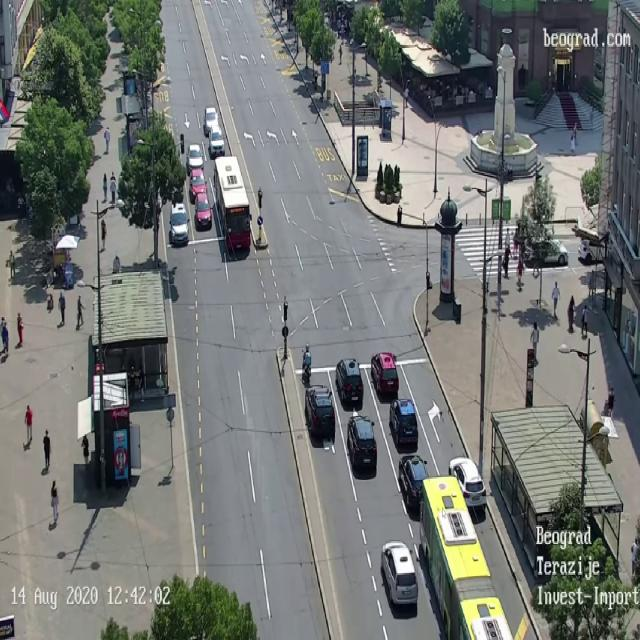bus: (418, 475, 515, 639), (213, 155, 250, 252)
car: (299, 386, 341, 450), (380, 540, 418, 608), (336, 352, 368, 418), (516, 234, 562, 274), (348, 414, 378, 474), (398, 453, 429, 511), (391, 398, 424, 452), (454, 458, 486, 507), (373, 350, 400, 397), (190, 197, 217, 231), (169, 199, 187, 246), (576, 231, 602, 263), (201, 103, 217, 137), (212, 130, 227, 160), (186, 146, 204, 171), (194, 170, 206, 200)
